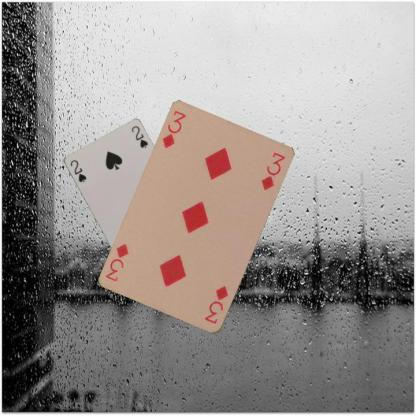2s: (68, 157, 88, 183)
3d: (159, 108, 188, 151), (202, 283, 230, 325)
